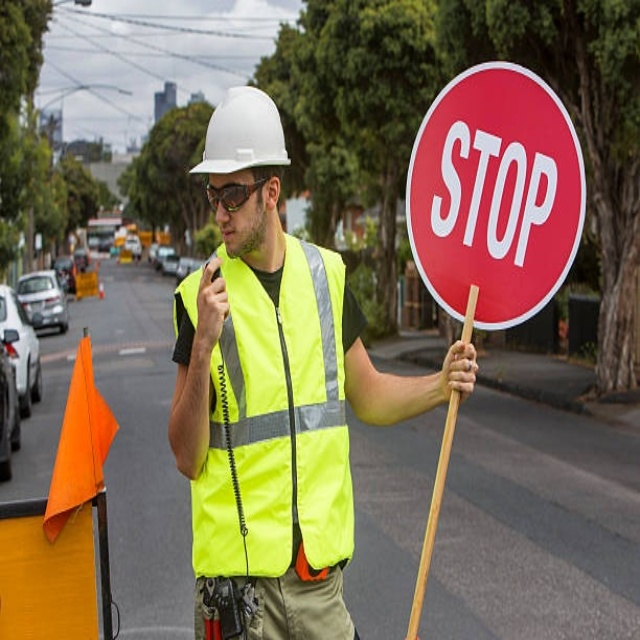Gafas: (205, 178, 269, 213)
Sin_guantes: (195, 253, 232, 344), (443, 336, 480, 401)
Sin_mascara: (215, 223, 244, 254)
